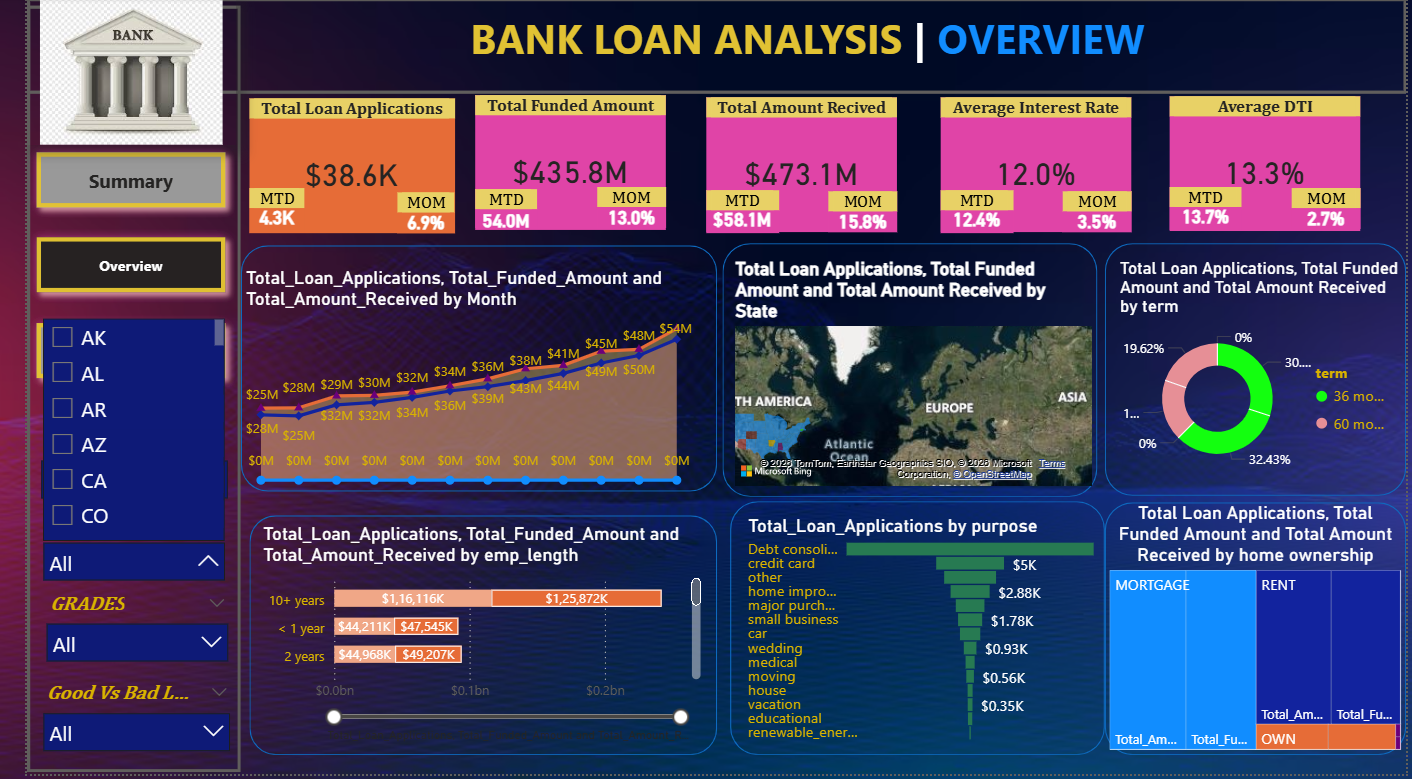

The page's visual inventory and layout, read from the dashboard file:
{"tool":"powerbi","page":{"name":"Overview","canvas":[1280,720],"ordinal":1},"visuals":[{"type":"actionButton","box":[0,0,1280,88.9],"z":0},{"type":"actionButton","box":[0,7,198.4,711.4],"z":1000},{"type":"textbox","box":[389,7,671,60],"z":2000},{"type":"card","title":"Total Loan Applications","fields":{"Values":["Good_Loan_%.Total_Loan_Applications"]},"box":[206.4,93.2,190.4,125.2],"z":3000},{"type":"card","title":"MTD","fields":{"Values":["Good_Loan_%.MTD_Loan_App"]},"box":[206.4,176.3,51.1,42.1],"z":4000},{"type":"card","title":"MOM","fields":{"Values":["Good_Loan_%.MOM_Loan_Applications"]},"box":[343.7,180.4,53.1,38.1],"z":5000},{"type":"card","title":"Total Funded Amount","fields":{"Values":["Good_Loan_%.Total_Funded_Amount"]},"box":[416,90,177,125],"z":6000},{"type":"card","title":"MTD","fields":{"Values":["Good_Loan_%.MTD_Funded_Amount"]},"box":[415.8,177.4,57.1,36.1],"z":7000},{"type":"card","title":"MOM","fields":{"Values":["Good_Loan_%.MOM_Total Funded_Amount"]},"box":[529,175,64,38],"z":8000},{"type":"card","title":"Total Amount Recived","fields":{"Values":["Good_Loan_%.Total_Amount_Received"]},"box":[630,92,177,125],"z":9000},{"type":"card","title":"MTD","fields":{"Values":["Good_Loan_%.MTD_Total_Amount_Recieved"]},"box":[630.2,178.4,67.1,40.1],"z":10000},{"type":"card","title":"MOM","fields":{"Values":["Good_Loan_%.MOM_Total_Amount_Recieved"]},"box":[743,179,64,38],"z":11000},{"type":"card","title":"Average Interest Rate","fields":{"Values":["Good_Loan_%.Average_interest_rate"]},"box":[848,92,177,125],"z":12000},{"type":"card","title":"MTD","fields":{"Values":["Good_Loan_%.MTD_Average_int_rate"]},"box":[847.7,178.4,67.1,40.1],"z":13000},{"type":"card","title":"MOM","fields":{"Values":["Good_Loan_%.MOM AVG int rate"]},"box":[961,179,64,38],"z":14000},{"type":"card","title":"Average DTI","fields":{"Values":["Good_Loan_%.Avarage_DTI"]},"box":[1060,91,177,125],"z":15000},{"type":"card","title":"MTD","fields":{"Values":["Good_Loan_%.MTD _AVARAGE_DTI"]},"box":[1060,175,67,40],"z":16000},{"type":"card","title":"MOM","fields":{"Values":["Good_Loan_%.MOM AVG DTI"]},"box":[1173,176,64,38],"z":17000},{"type":"shape","box":[198.4,229.5,441.9,228.5],"z":18000},{"type":"shape","box":[645.3,227.4,347.7,235.5],"z":19000},{"type":"slicer","fields":{"Values":["financial_loan.address_state"]},"box":[5,471.9,188.4,75.1],"z":20000},{"type":"slicer","fields":{"Values":["financial_loan.grade"]},"box":[8,547.1,188.4,75.1],"z":21000},{"type":"slicer","fields":{"Values":["financial_loan.Good Vs Bad Loan"]},"box":[5,630.2,193.4,81.2],"z":22000},{"type":"slicer","fields":{"Values":["Select Measure.Select Measure"]},"box":[3,395.8,193.4,76.2],"z":23000},{"type":"areaChart","fields":{"Y":["Good_Loan_%.Total_Loan_Applications","Good_Loan_%.Total_Funded_Amount","Good_Loan_%.Total_Amount_Received"],"Category":["financial_loan.issue_date.Variation.Date Hierarchy.Month"]},"box":[198.4,249.5,423.8,208.4],"z":24000},{"type":"shape","box":[1000,227.4,279.6,234.5],"z":25000},{"type":"shape","box":[206.4,479.9,433.9,222.4],"z":26000},{"type":"shape","box":[652.3,466.9,347.7,235.5],"z":27000},{"type":"shape","box":[1000,467.9,279.6,234.5],"z":28000},{"type":"filledMap","title":"Total Loan Applications, Total Funded Amount and Total Amount Received by State","fields":{"Category":["financial_loan.address_state"]},"box":[652.3,241.5,340.7,216.4],"z":29000},{"type":"donutChart","title":"Total Loan Applications, Total Funded Amount and Total Amount Received by term","fields":{"Y":["Good_Loan_%.Total_Loan_Applications","Good_Loan_%.Total_Funded_Amount","Good_Loan_%.Total_Amount_Received"],"Category":["financial_loan.term"]},"box":[1009,241.5,270.5,208.4],"z":30000},{"type":"barChart","fields":{"Y":["Good_Loan_%.Total_Loan_Applications","Good_Loan_%.Total_Funded_Amount","Good_Loan_%.Total_Amount_Received"],"Category":["financial_loan.emp_length"]},"box":[214.4,487,415.8,207.4],"z":31000},{"type":"funnel","fields":{"Y":["Good_Loan_%.Total_Loan_Applications"],"Category":["financial_loan.purpose"]},"box":[664.3,479.9,335.7,214.4],"z":32000},{"type":"treemap","title":"Total Loan Applications, Total Funded Amount and Total Amount Received by home ownership","fields":{"Values":["Good_Loan_%.Total_Loan_Applications","Good_Loan_%.Total_Funded_Amount","Good_Loan_%.Total_Amount_Received"],"Group":["financial_loan.home_ownership"]},"box":[1000,467.9,279.6,234.5],"z":33000},{"type":"pageNavigator","box":[0,134.3,193.4,229.5],"z":34000},{"type":"image","box":[0,0,193.4,136.3],"z":35000}]}

Visuals, with their boxes in screenshot pixels (x1, y1, x2, y2), scaled from the page's 1280x720 canvas onto the 1412x779 screenshot:
actionButton: (0, 0, 1411, 96)
actionButton: (0, 8, 219, 777)
textbox: (429, 8, 1169, 72)
"Total Loan Applications" card: (228, 101, 438, 236)
"MTD" card: (228, 191, 284, 236)
"MOM" card: (379, 195, 438, 236)
"Total Funded Amount" card: (459, 97, 654, 233)
"MTD" card: (459, 192, 522, 231)
"MOM" card: (584, 189, 654, 230)
"Total Amount Recived" card: (695, 100, 890, 235)
"MTD" card: (695, 193, 769, 236)
"MOM" card: (820, 194, 890, 235)
"Average Interest Rate" card: (935, 100, 1131, 235)
"MTD" card: (935, 193, 1009, 236)
"MOM" card: (1060, 194, 1131, 235)
"Average DTI" card: (1169, 98, 1365, 234)
"MTD" card: (1169, 189, 1243, 233)
"MOM" card: (1294, 190, 1365, 232)
shape: (219, 248, 706, 496)
shape: (712, 246, 1095, 501)
slicer - financial_loan.address_state: (6, 511, 213, 592)
slicer - financial_loan.grade: (9, 592, 217, 673)
slicer - financial_loan.Good Vs Bad Loan: (6, 682, 219, 770)
slicer - Select Measure.Select Measure: (3, 428, 217, 511)
areaChart - Good_Loan_%.Total_Loan_Applications x Good_Loan_%.Total_Funded_Amount: (219, 270, 686, 495)
shape: (1103, 246, 1411, 500)
shape: (228, 519, 706, 760)
shape: (720, 505, 1103, 760)
shape: (1103, 506, 1411, 760)
"Total Loan Applications, Total Funded Amount and Total Amount Received by State" filledMap: (720, 261, 1095, 495)
"Total Loan Applications, Total Funded Amount and Total Amount Received by term" donutChart: (1113, 261, 1411, 487)
barChart - Good_Loan_%.Total_Loan_Applications x Good_Loan_%.Total_Funded_Amount: (237, 527, 695, 751)
funnel - Good_Loan_%.Total_Loan_Applications x financial_loan.purpose: (733, 519, 1103, 751)
"Total Loan Applications, Total Funded Amount and Total Amount Received by home ownership" treemap: (1103, 506, 1411, 760)
pageNavigator: (0, 145, 213, 394)
image: (0, 0, 213, 147)
